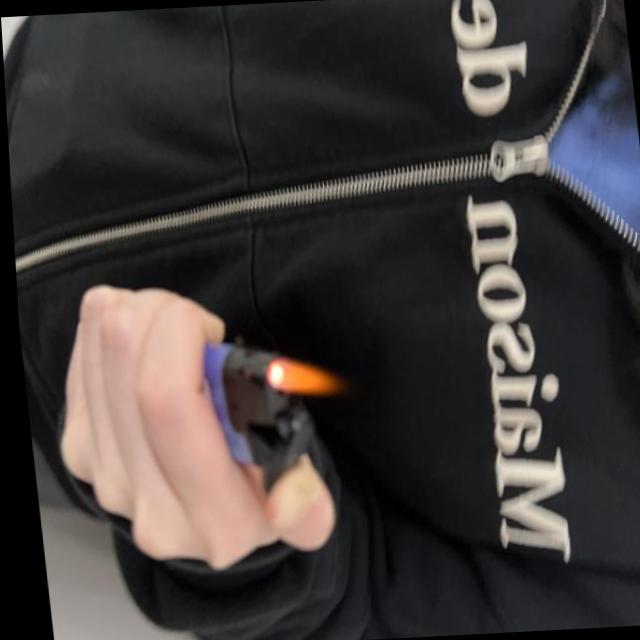Fire: (257, 352, 340, 398)
